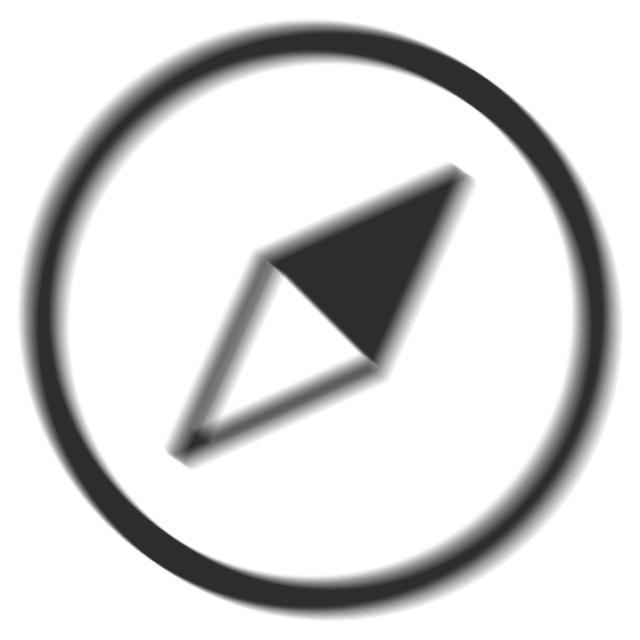compass: (11, 14, 631, 632)
